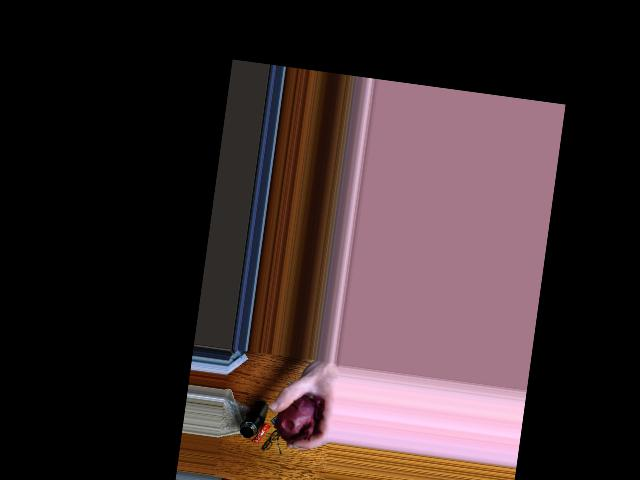onion: (278, 388, 323, 451)
